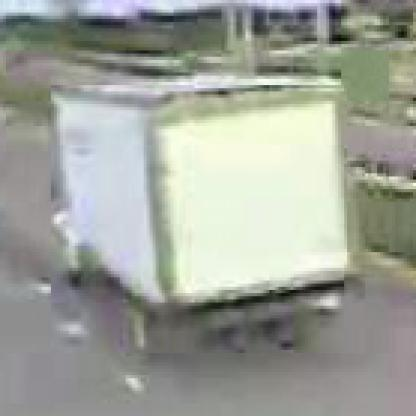truck: (49, 86, 348, 357)
